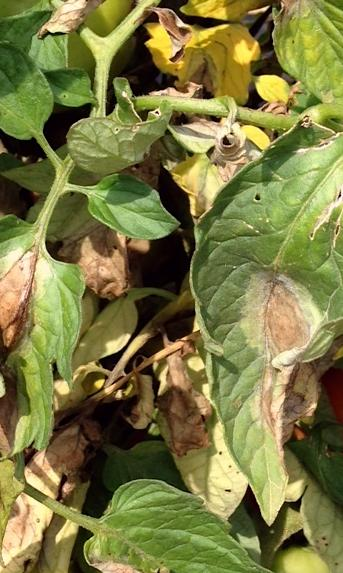Tomato leaf late blight: (197, 96, 343, 523), (65, 478, 303, 573), (0, 203, 78, 454), (253, 0, 343, 149)
